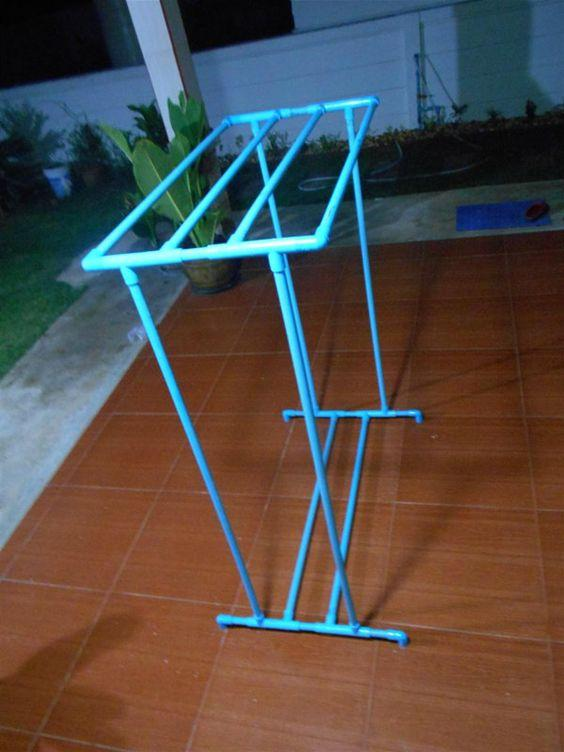PVC: (62, 58, 470, 680)
